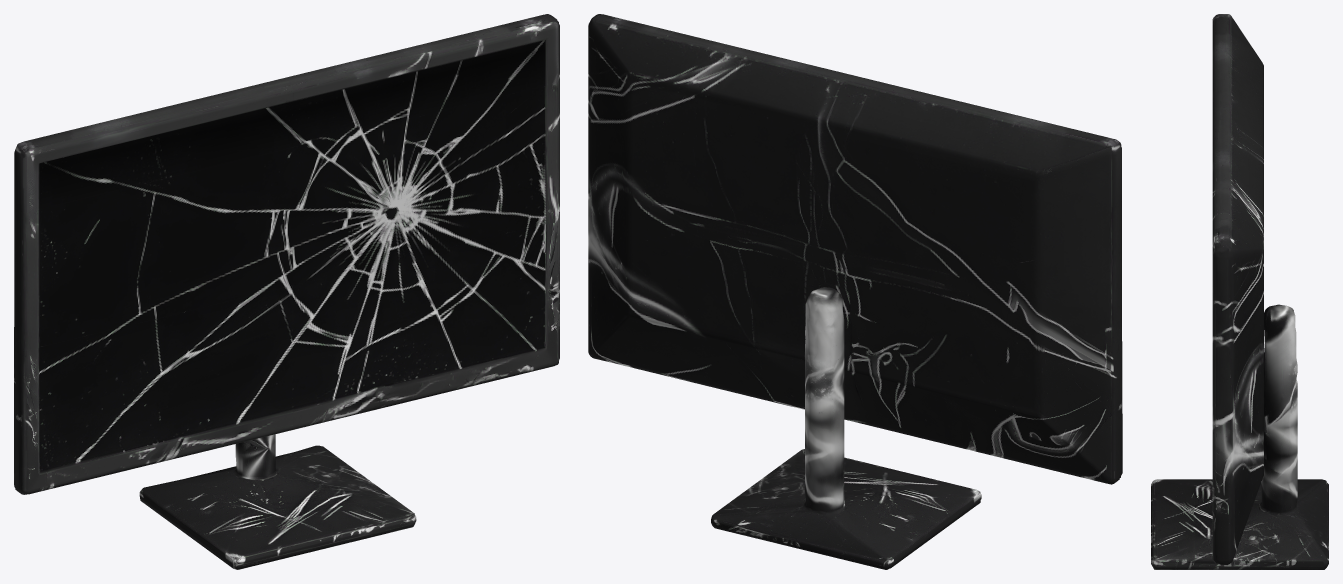
File: Meshy_AI_LG_Computer_Monitor_o_0518134658_texture.fbx
3 views of the same model, side by side, from view 1: azimuth 30°, elevation 25°; view 2: azimuth 150°, elevation 25°; view 3: azimuth 270°, elevation 25° (orthographic). The views are drawn at different scales.
Visible parts, largest first — view 1: Mesh_0; view 2: Mesh_0; view 3: Mesh_0.
Part boxes in pixels (<box>): Mesh_0: <box>14,14,559,569</box>; Mesh_0: <box>588,14,1122,569</box>; Mesh_0: <box>1151,14,1328,569</box>.
Bounding box in the file's own units: 191 × 149 × 59.88.
Materials: 1 (1 with a texture image).
